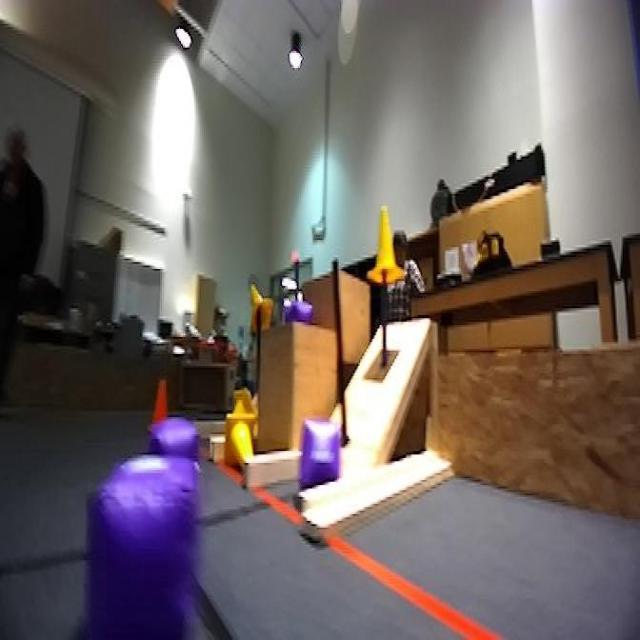frc_cone: (368, 202, 402, 290), (224, 414, 257, 473), (248, 286, 272, 330), (232, 392, 258, 418)
frc_cube: (90, 458, 206, 640), (156, 419, 207, 509), (301, 414, 346, 486), (287, 298, 318, 327)
